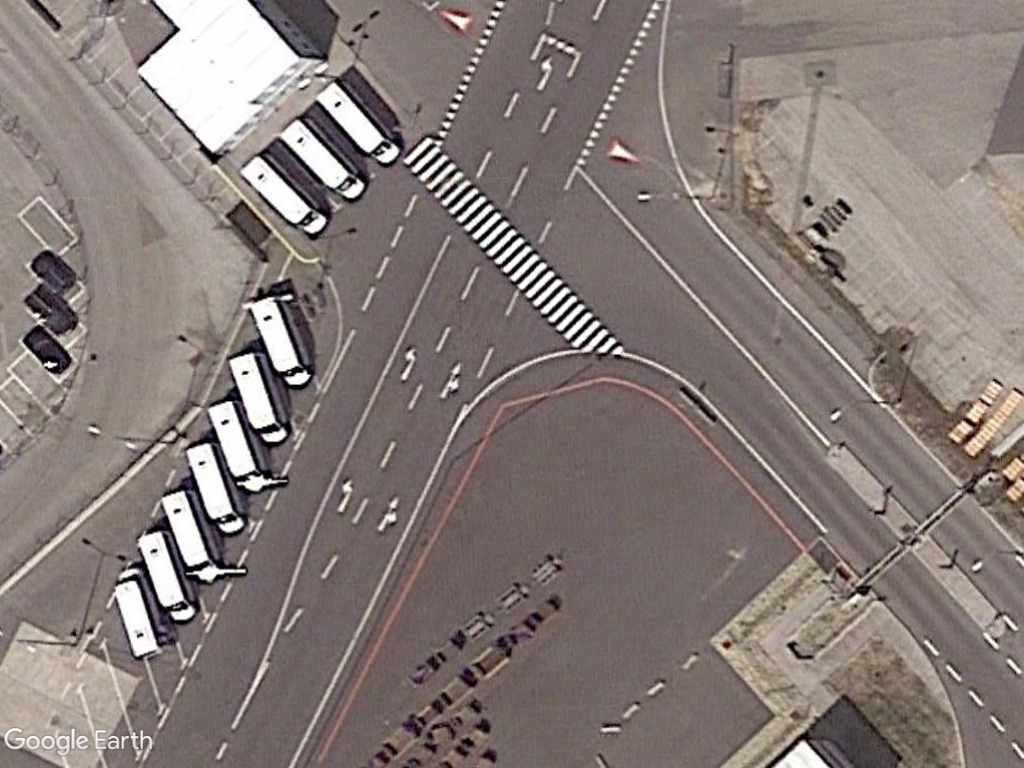van: (277, 113, 373, 203), (235, 152, 329, 241), (312, 81, 401, 168), (130, 526, 204, 625), (247, 290, 317, 392), (204, 394, 273, 494), (222, 347, 292, 445), (159, 486, 228, 585), (184, 438, 251, 539)
